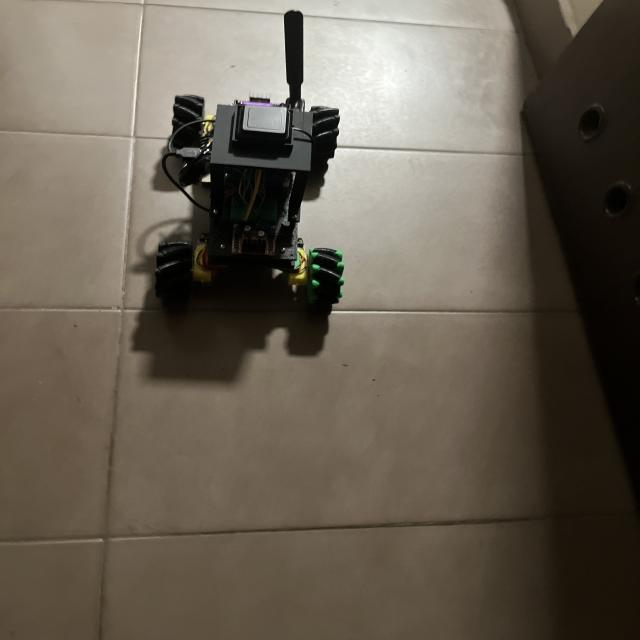robot: (155, 11, 344, 311)
